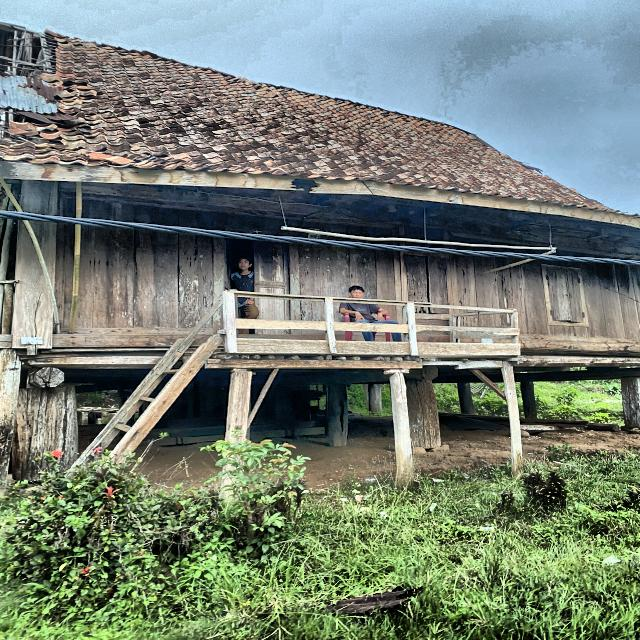column: (221, 368, 252, 498), (384, 369, 414, 485), (501, 366, 524, 475), (406, 380, 441, 449), (328, 384, 347, 446), (621, 378, 640, 429), (521, 382, 537, 418), (457, 383, 474, 414), (368, 384, 382, 415)
ornamen: (222, 289, 521, 355)
roof: (0, 22, 639, 228)
stair: (78, 335, 224, 470), (9, 386, 78, 481)
wall: (11, 182, 640, 352)
window: (542, 265, 588, 327), (406, 255, 449, 314)
